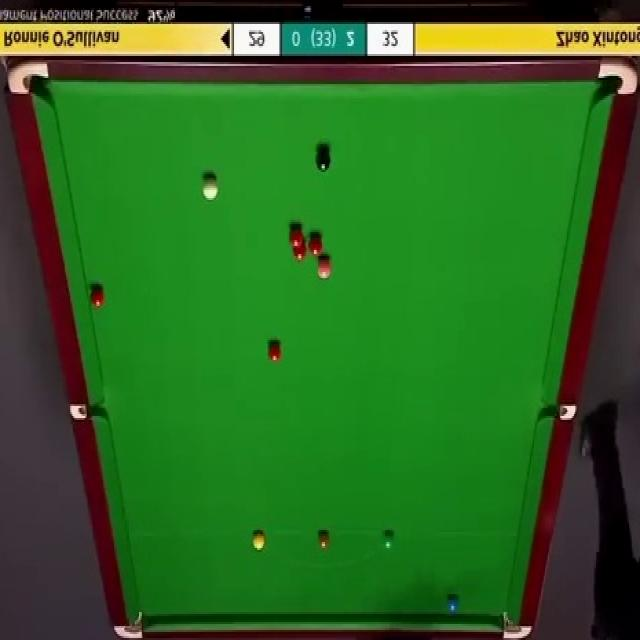black-ball: (314, 146, 331, 173)
blue-ball: (448, 592, 458, 613)
brown-ball: (317, 531, 330, 548)
green-ball: (382, 528, 396, 552)
pink-ball: (316, 257, 332, 281)
red-ball: (88, 284, 106, 310), (308, 233, 324, 257), (293, 238, 307, 262), (266, 343, 282, 362), (289, 227, 303, 248)
white-ball: (201, 173, 218, 201)
yellow-ball: (252, 530, 266, 551)
